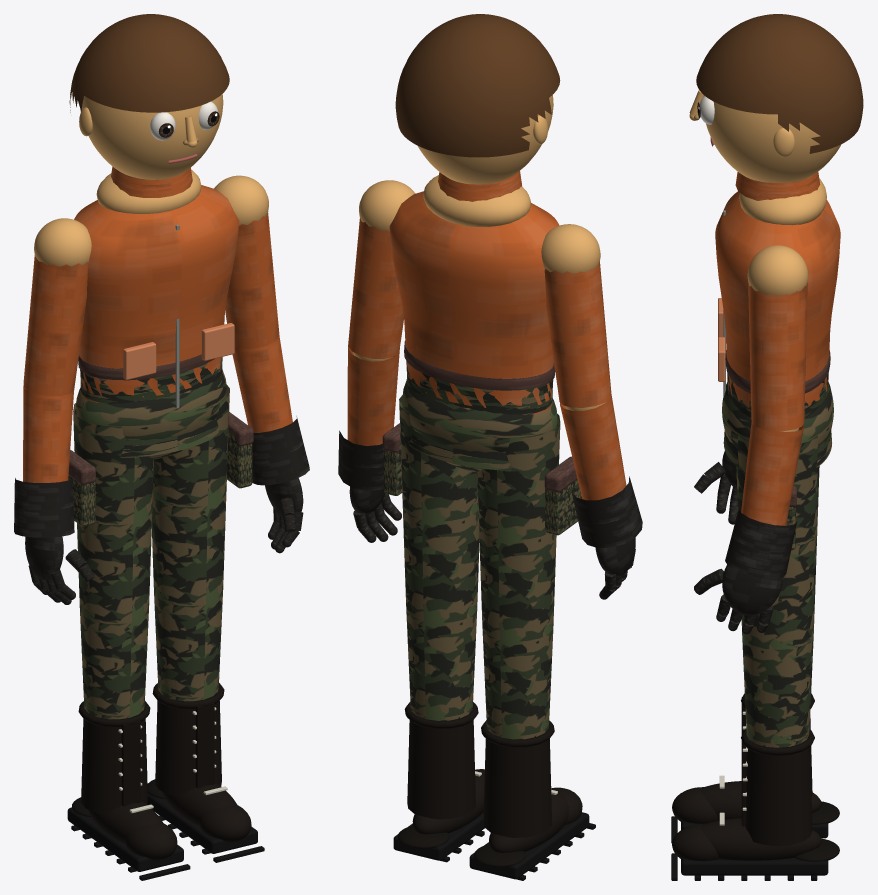
Rendered from 05-gants-d-hiver.glb.
3 views of the same model, side by side, from view 1: azimuth 30°, elevation 25°; view 2: azimuth 150°, elevation 25°; view 3: azimuth 270°, elevation 25° (orthographic). The views are drawn at different scales.
Bounding box in the file's own units: 0.6605 × 1.77 × 0.3715.
23 materials, 5 textured.
